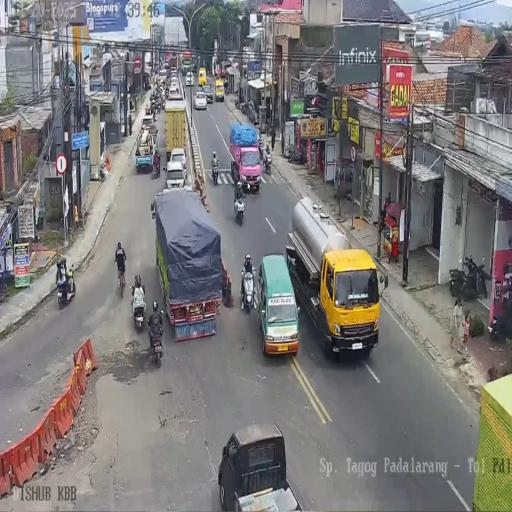3: (284, 196, 373, 362), (154, 190, 224, 341), (228, 120, 260, 192), (141, 115, 155, 142), (181, 50, 192, 76)
car: (218, 424, 302, 510), (256, 256, 298, 357), (167, 147, 187, 181), (194, 91, 207, 110), (214, 78, 224, 101), (198, 68, 206, 86), (185, 72, 194, 87), (170, 77, 178, 93), (159, 68, 168, 78), (171, 66, 177, 78), (192, 62, 197, 75), (164, 62, 170, 70)
truck: (448, 252, 487, 302), (490, 293, 512, 342), (57, 264, 76, 310), (148, 316, 164, 363), (240, 268, 255, 310), (285, 144, 305, 165), (134, 298, 146, 331), (234, 190, 245, 225), (211, 157, 219, 186), (264, 150, 272, 175), (258, 135, 265, 160), (240, 100, 248, 116), (150, 100, 156, 120), (155, 98, 162, 114), (145, 104, 150, 116), (225, 83, 229, 96), (235, 97, 238, 108)
